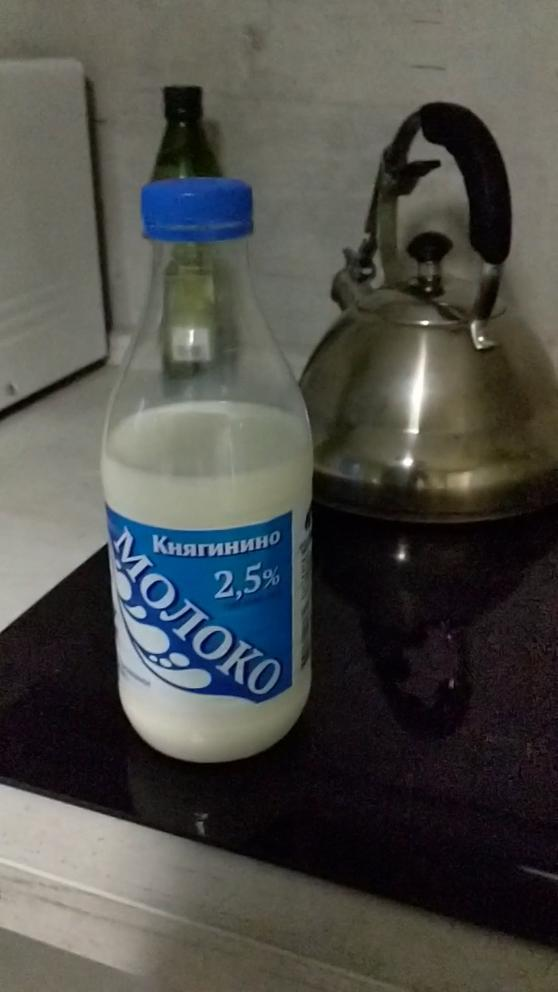milk: (73, 171, 338, 776)
